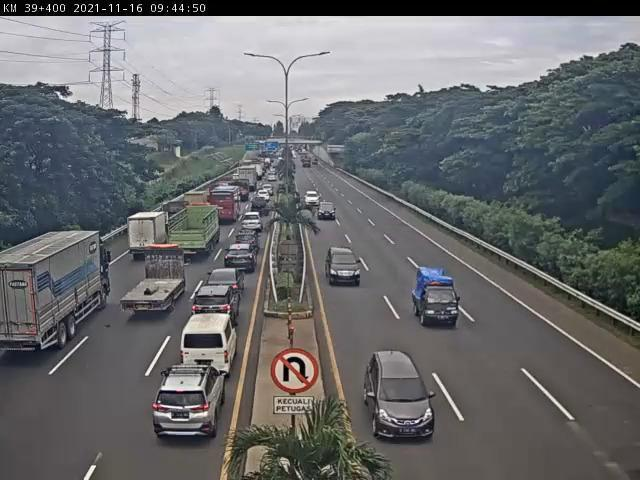bus: (209, 187, 246, 224)
car: (363, 350, 436, 438), (151, 368, 223, 440), (184, 315, 239, 376), (414, 268, 465, 328), (189, 288, 237, 336), (326, 246, 366, 290), (207, 268, 248, 299), (224, 247, 256, 276), (234, 232, 261, 252), (237, 217, 262, 238), (319, 204, 337, 223)
truck: (3, 235, 113, 353), (122, 251, 190, 315), (168, 205, 220, 261), (128, 213, 172, 262), (181, 187, 210, 219)
